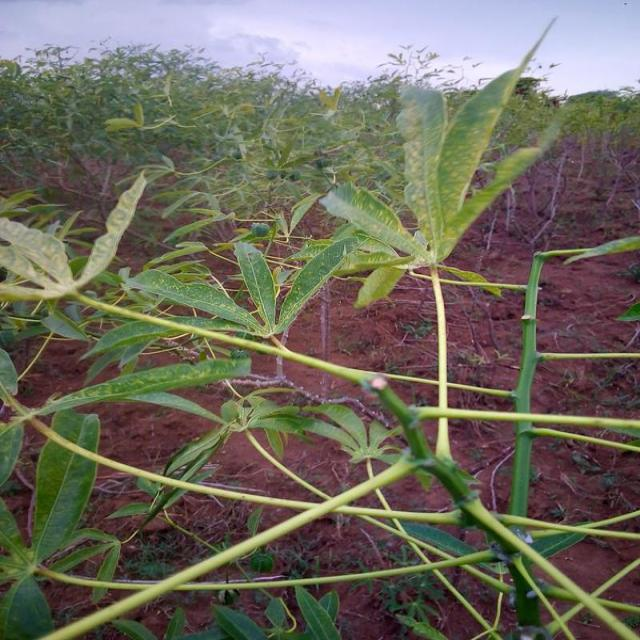cassava leaf: (396, 14, 560, 265), (32, 406, 102, 566), (276, 235, 358, 335)
